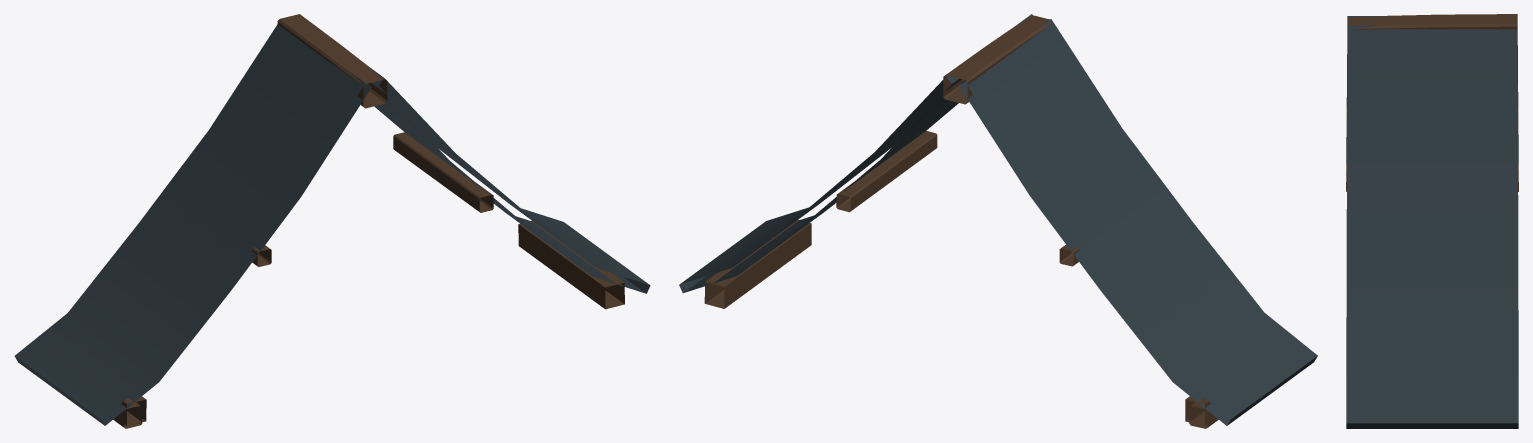
The model's file is Roof6.fbx.
3 views of the same model, side by side, from view 1: azimuth 30°, elevation 25°; view 2: azimuth 150°, elevation 25°; view 3: azimuth 270°, elevation 25° (orthographic).
Visible parts, largest first — view 1: Cube.010; view 2: Cube.010; view 3: Cube.010.
Part boxes in pixels (x1,y1,x2,y2): Cube.010: (14,14,650,428); Cube.010: (679,14,1317,428); Cube.010: (1346,14,1518,428).
Size of the model in its own units: 7.4 by 3.71 by 2.03.
